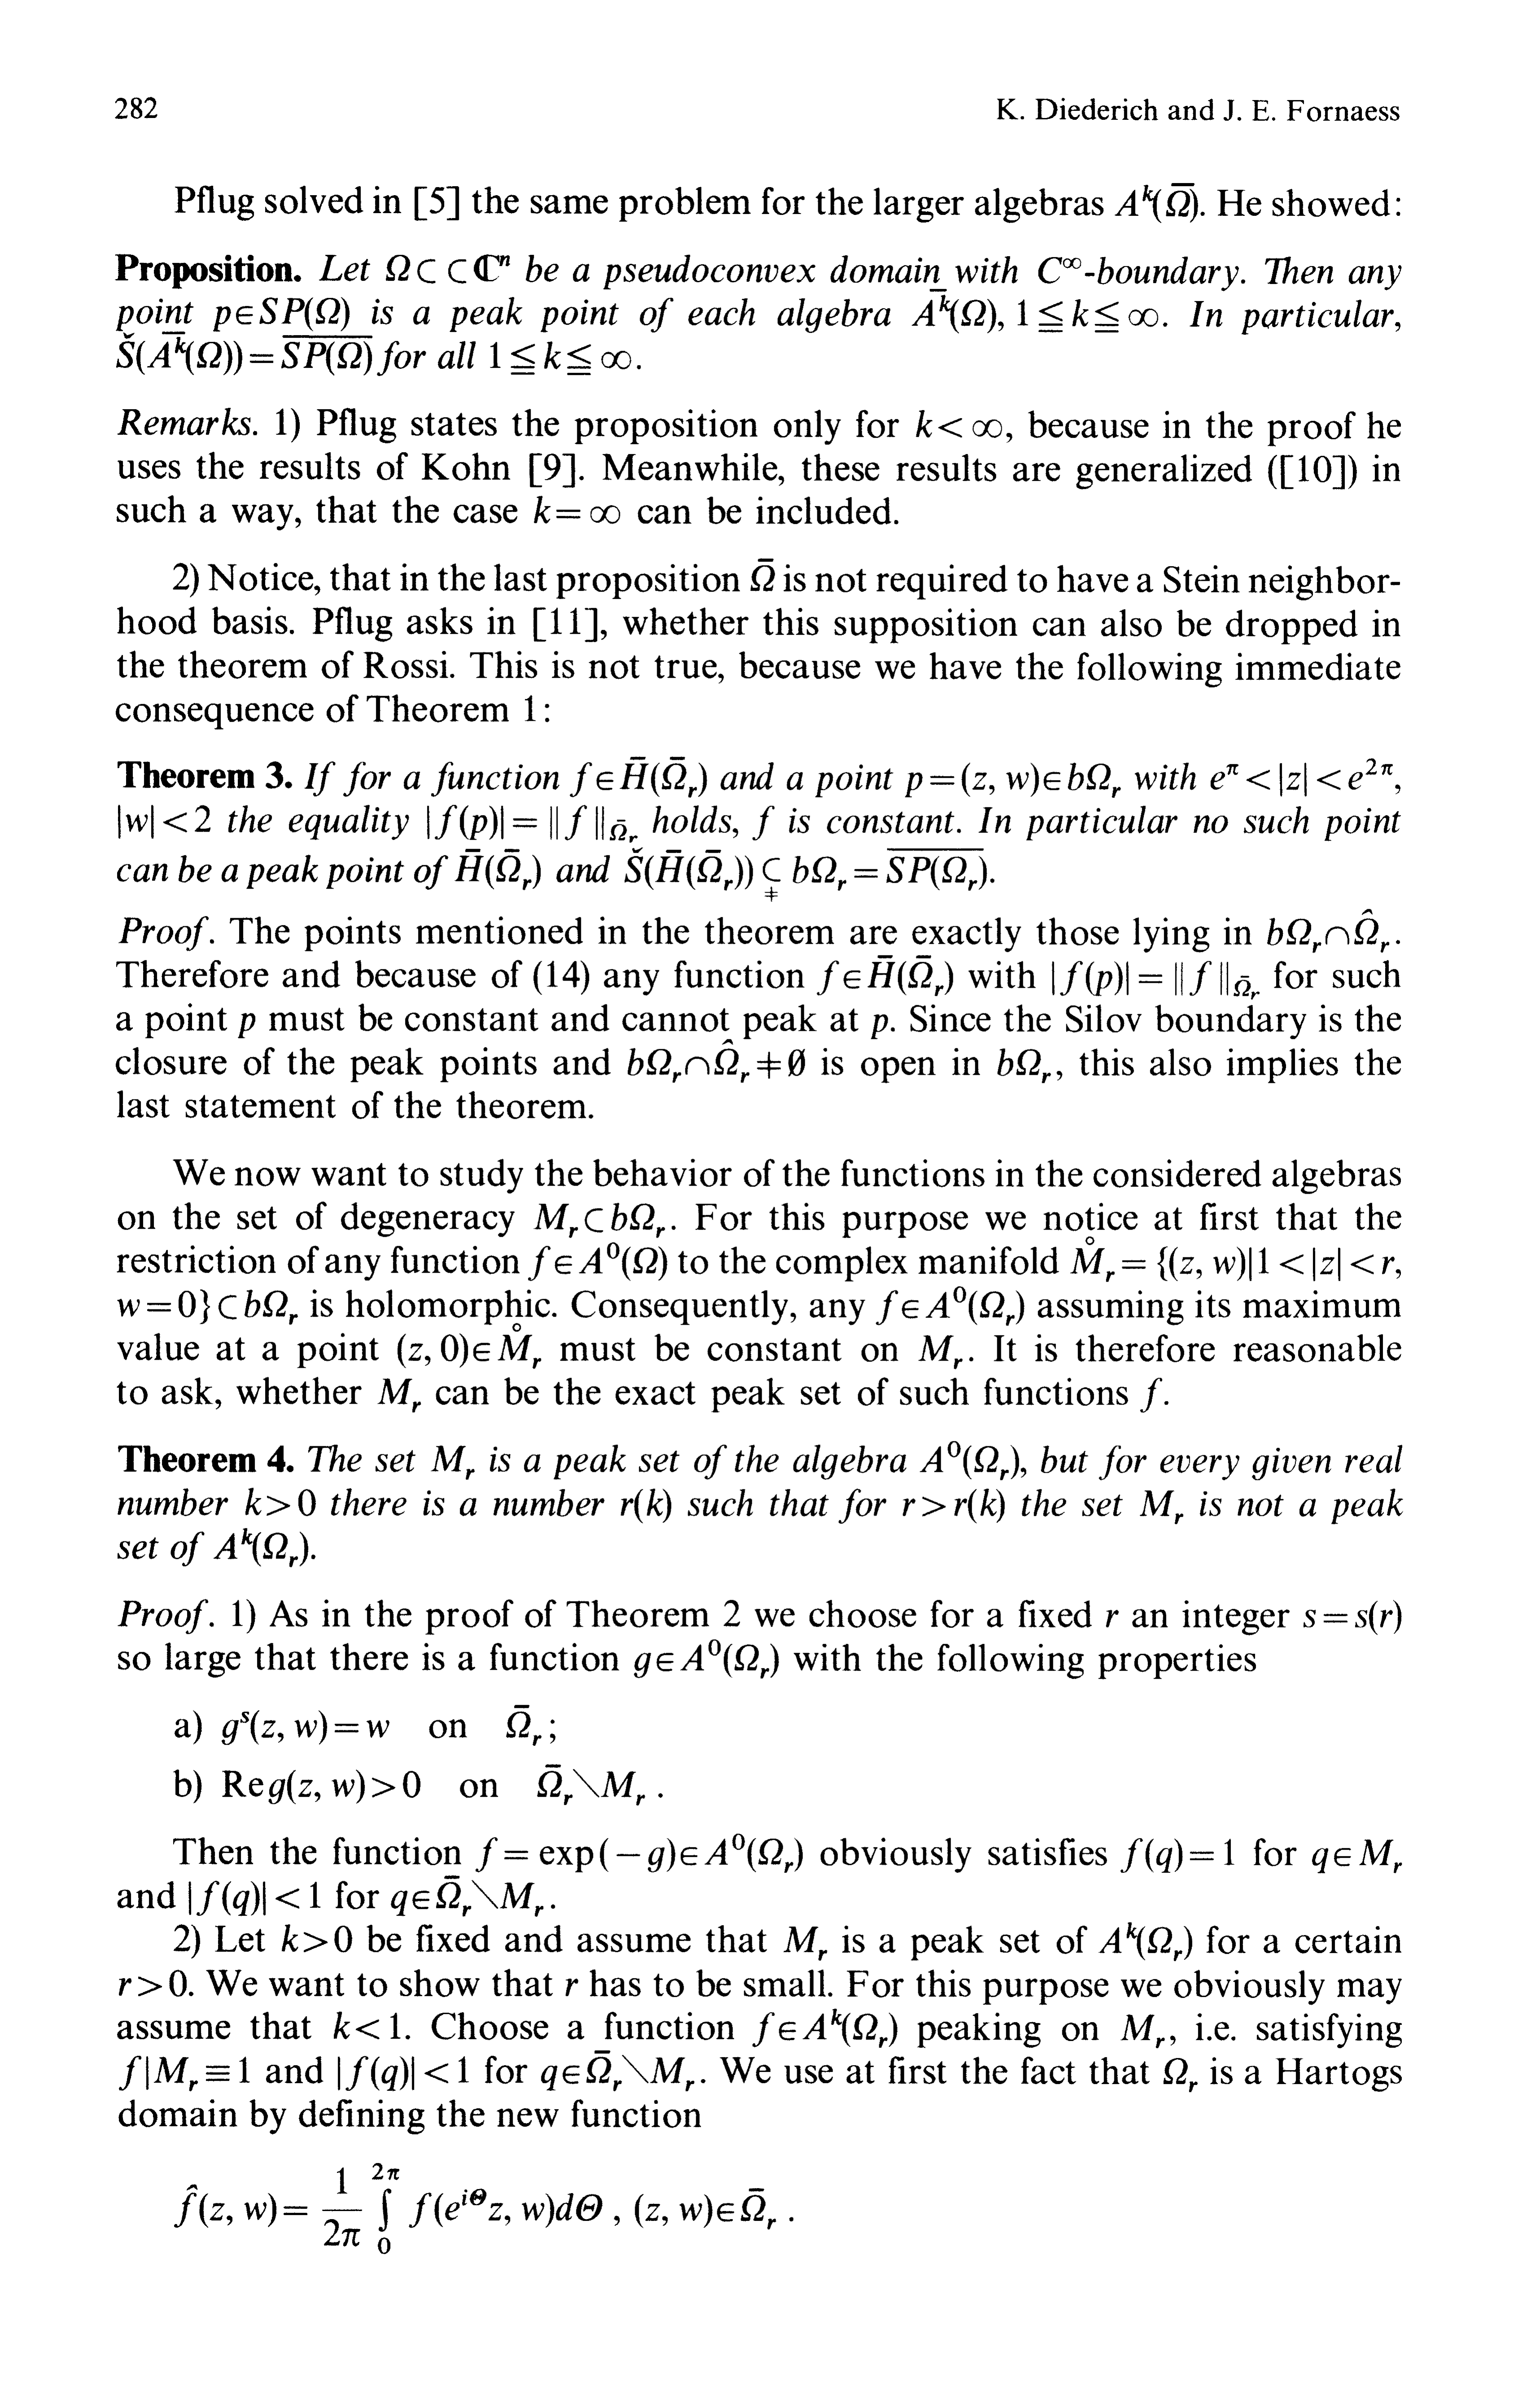maths: (175, 2163, 775, 2254), (624, 848, 986, 901), (1070, 1236, 1401, 1282), (476, 1834, 803, 1873), (628, 1013, 804, 1082), (115, 332, 373, 374), (397, 1299, 540, 1369), (1051, 960, 1259, 999), (906, 762, 1121, 797), (435, 804, 637, 841), (1210, 759, 1392, 796), (222, 1770, 420, 1803), (117, 1289, 297, 1324), (540, 2051, 694, 2091), (390, 1876, 542, 1917), (222, 1710, 388, 1745), (876, 1287, 1025, 1326), (633, 1640, 778, 1679), (752, 2009, 897, 2048), (570, 757, 707, 797), (817, 955, 953, 995), (1268, 909, 1389, 953), (528, 1243, 666, 1280), (490, 341, 631, 374), (1018, 299, 1158, 332), (533, 1203, 665, 1238), (119, 2057, 250, 2091), (213, 297, 350, 331), (537, 1764, 645, 1805), (196, 1882, 320, 1917), (346, 2057, 469, 2091), (1121, 1838, 1235, 1873), (213, 1528, 315, 1567), (920, 1441, 1020, 1479), (911, 289, 995, 332), (386, 254, 509, 283), (1098, 1922, 1193, 1960), (455, 848, 540, 890), (902, 1488, 1004, 1523), (1303, 1600, 1401, 1635), (1114, 184, 1198, 222), (1312, 1840, 1403, 1873), (126, 804, 210, 838), (916, 409, 1002, 437), (533, 495, 619, 523), (119, 1969, 192, 1997), (245, 1488, 315, 1516), (282, 1924, 352, 1952), (997, 1047, 1051, 1082), (334, 2011, 400, 2039), (621, 1488, 670, 1523), (378, 1378, 420, 1413), (918, 1336, 962, 1369), (430, 1446, 474, 1479), (783, 1927, 827, 1960), (1121, 2015, 1165, 2048), (505, 1705, 540, 1745), (1140, 1490, 1182, 1523), (1163, 2058, 1198, 2091), (1039, 257, 1081, 283), (750, 558, 775, 591), (752, 806, 775, 839), (1140, 1378, 1161, 1413), (238, 1013, 255, 1037), (871, 1014, 888, 1039), (565, 1980, 577, 1995), (1107, 1611, 1118, 1626)
